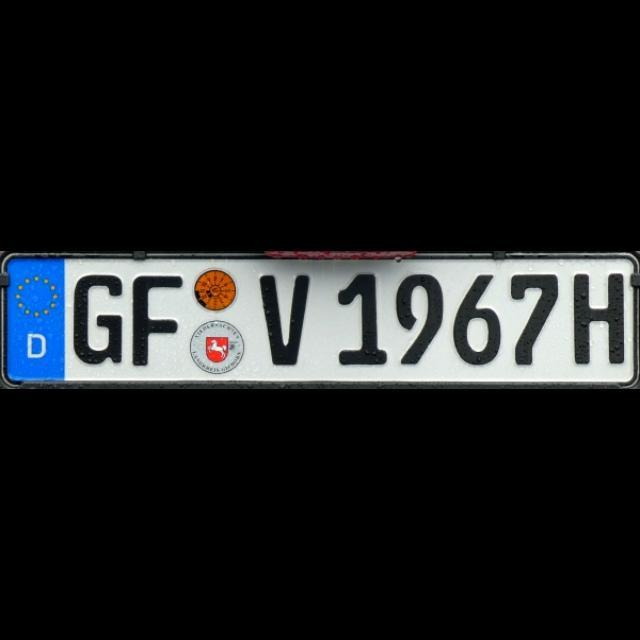license-plates: (0, 254, 640, 386)
